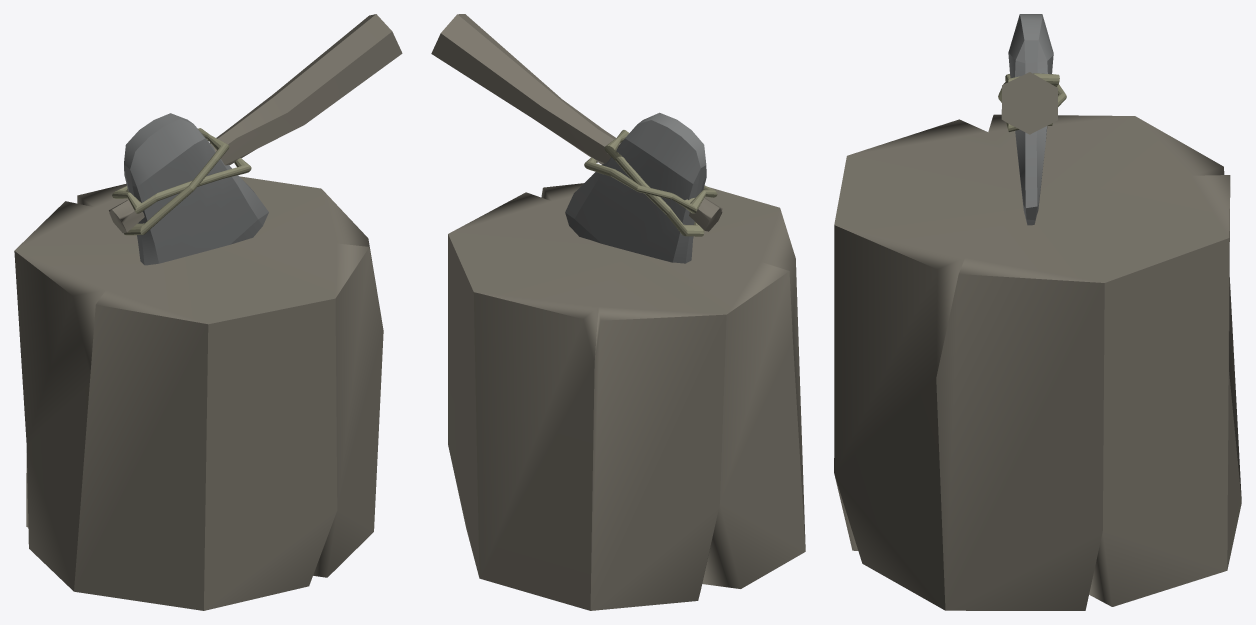
Rendered from WorkBench.fbx.
The picture shows the model from 3 angles, left to right: view 1: azimuth 30°, elevation 25°; view 2: azimuth 150°, elevation 25°; view 3: azimuth 270°, elevation 25°; orthographic projection. The views are drawn at different scales.
Parts seen in each view (by area): view 1: Bench, Axe1, Axe2, Axe3, Axe4; view 2: Bench, Axe1, Axe2, Axe3, Axe4; view 3: Bench, Axe1, Axe2.
Part boxes in pixels (x1,y1,x2,y2): Bench: (14,176,383,610); Axe1: (124,113,268,265); Axe2: (109,14,402,233); Axe3: (124,128,229,235); Axe4: (112,158,251,213); Bench: (448,183,805,610); Axe1: (565,112,706,263); Axe2: (431,14,722,231); Axe3: (604,130,704,236); Axe4: (584,157,717,213); Bench: (834,114,1241,610); Axe1: (1008,14,1053,225); Axe2: (1001,72,1057,134).
Size of the model in its own units: 2.37 by 3.16 by 2.08.
